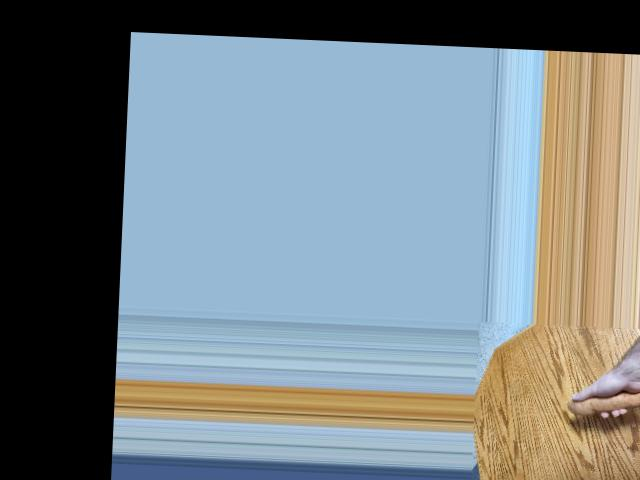sweet_potato: (568, 379, 640, 421)
